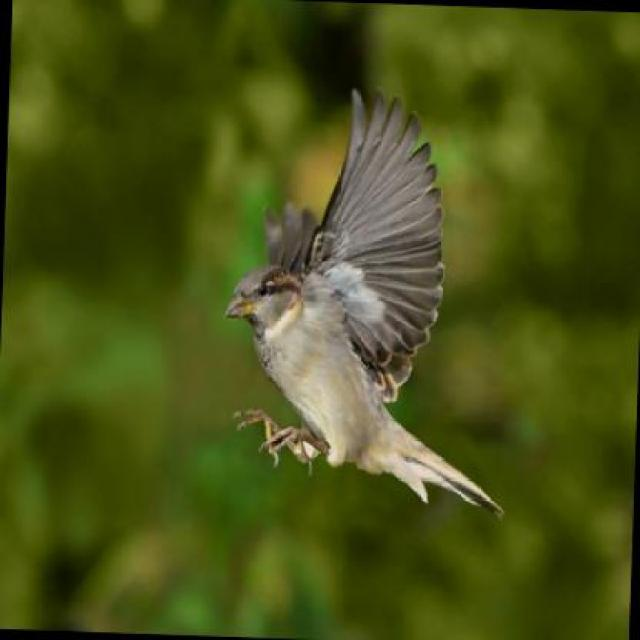Bird: (209, 83, 538, 554)
